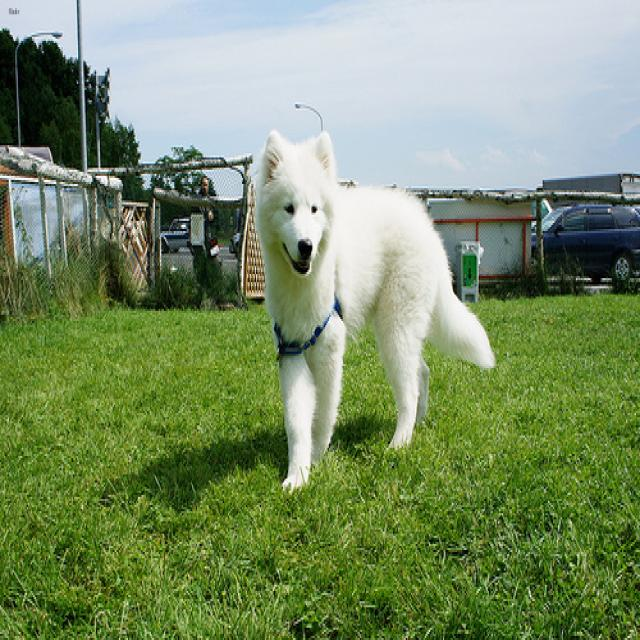dog-samoyed: (252, 123, 503, 493)
